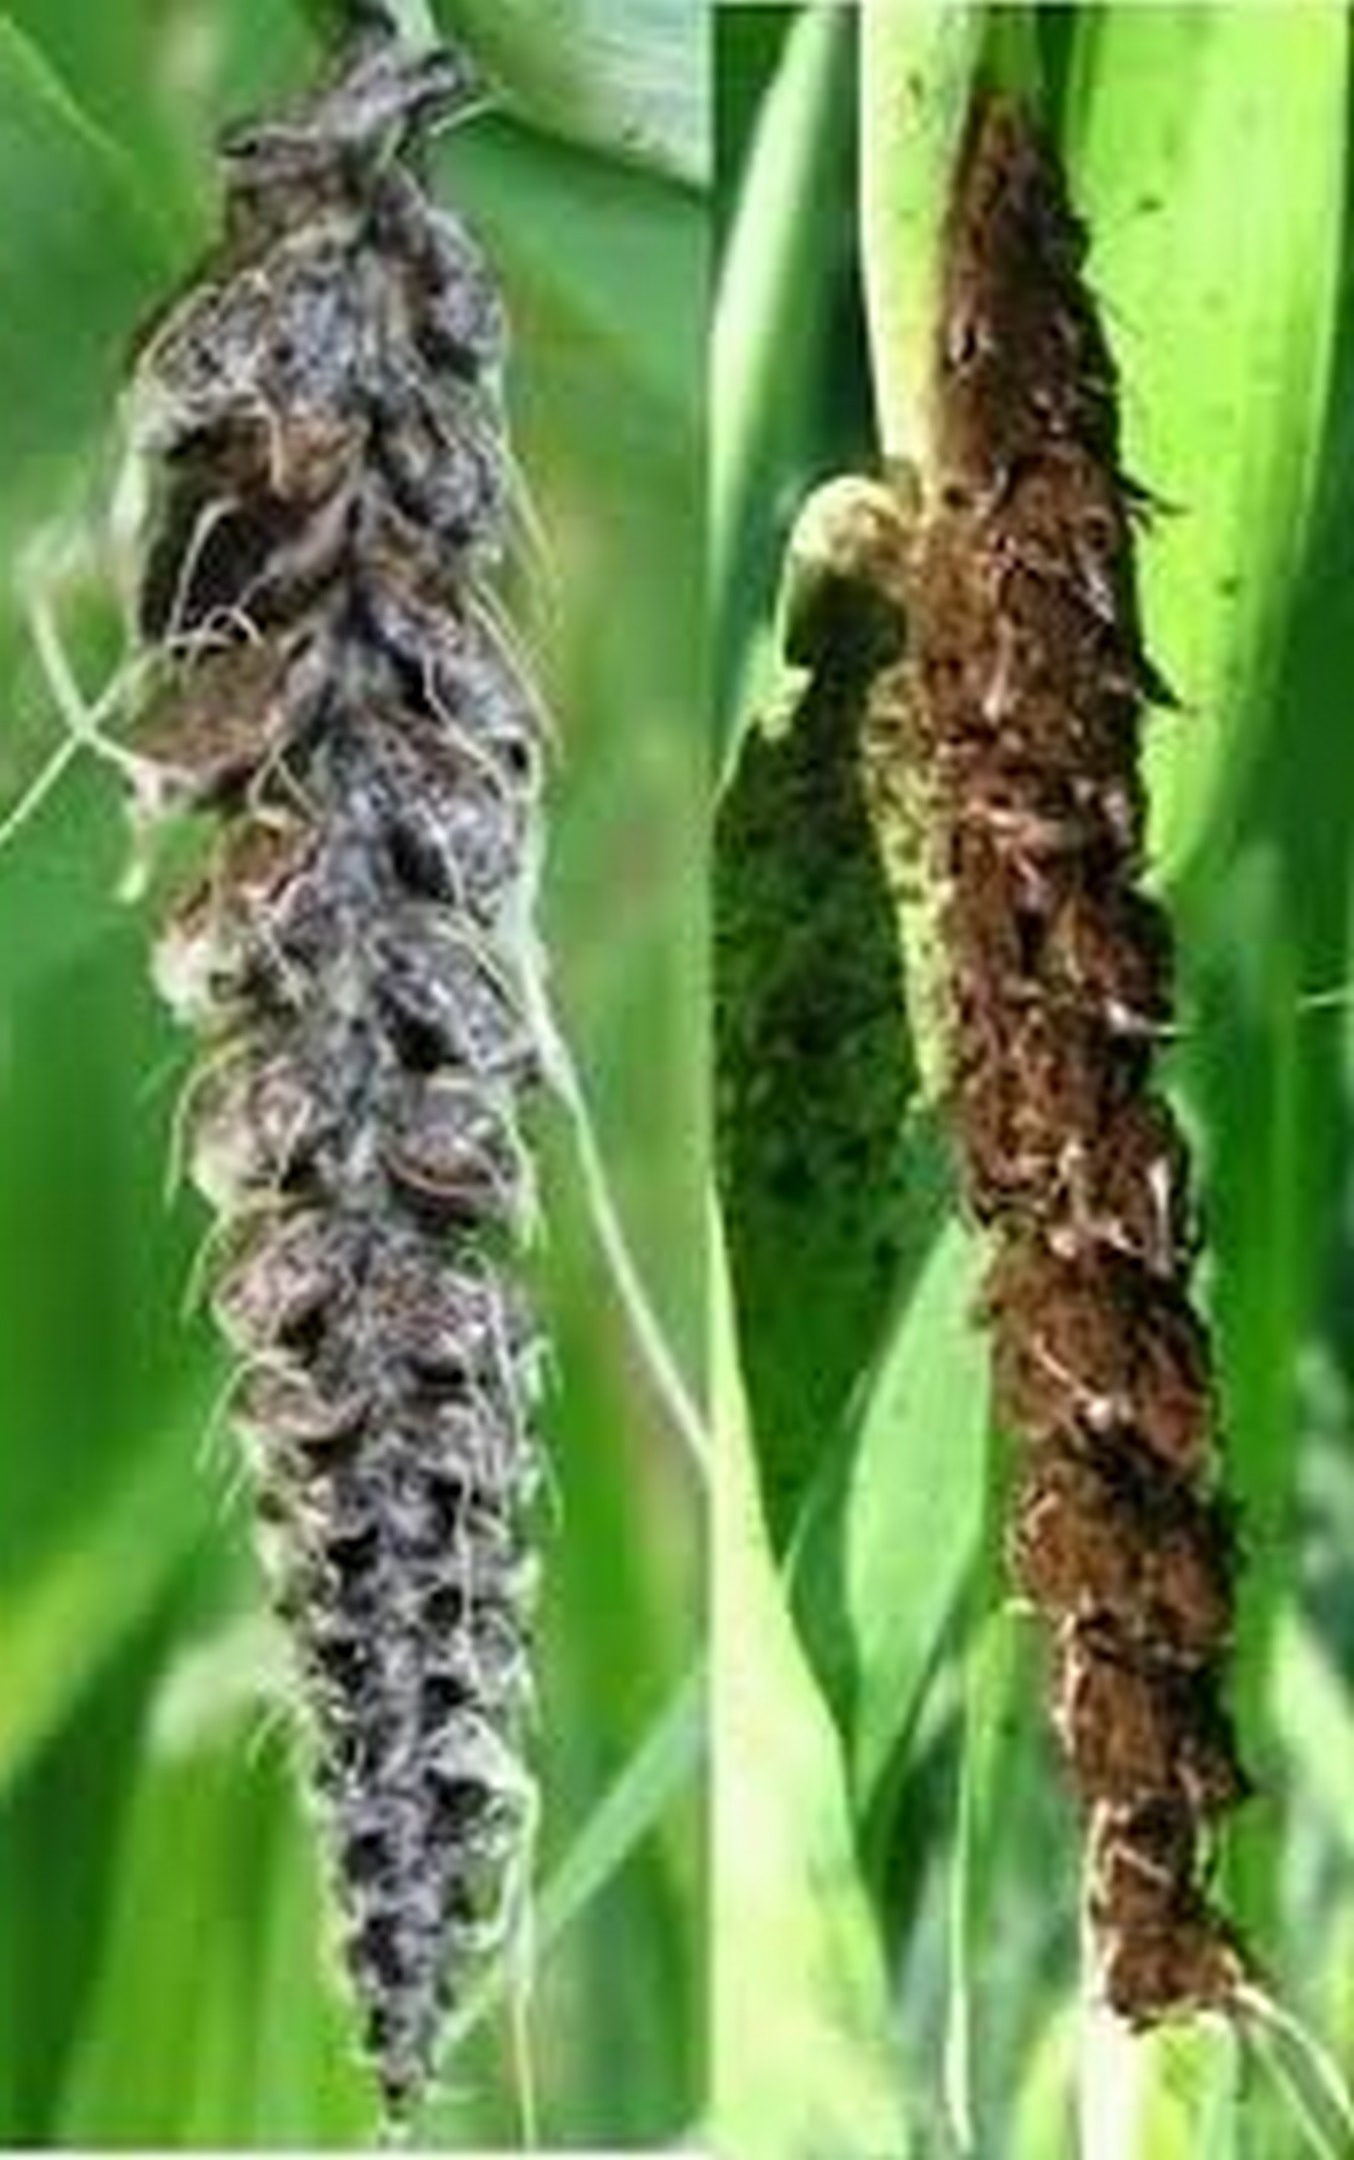Wheat Loose Smut: (92, 119, 660, 2054), (863, 159, 1321, 2026)
